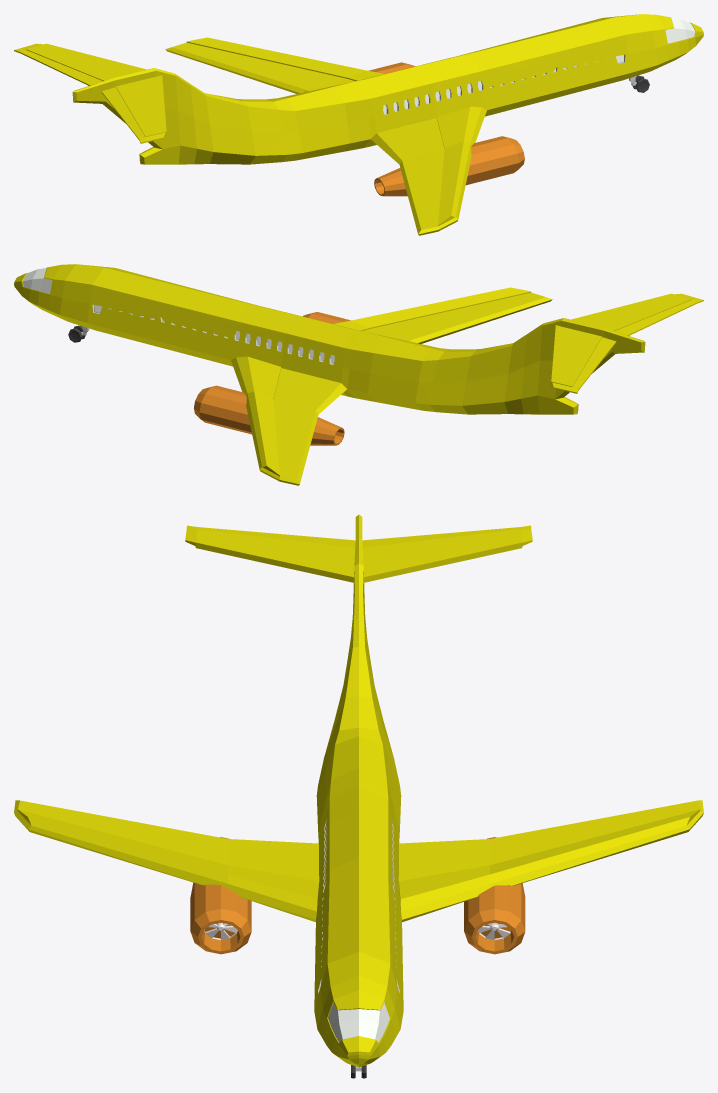
The picture shows the model from 3 angles, top to bottom: view 1: azimuth 30°, elevation 25°; view 2: azimuth 150°, elevation 25°; view 3: azimuth 270°, elevation 25°; orthographic projection. The views are drawn at different scales.
Parts seen in each view (by area): view 1: Plane.015; view 2: Plane.015; view 3: Plane.015.
Part boxes in pixels (x1=…): Plane.015: x1=14, y1=14, x2=703, y2=235; Plane.015: x1=14, y1=264, x2=703, y2=485; Plane.015: x1=14, y1=514, x2=703, y2=1078.
Bounding box in the file's own units: 228 × 49.01 × 159.
